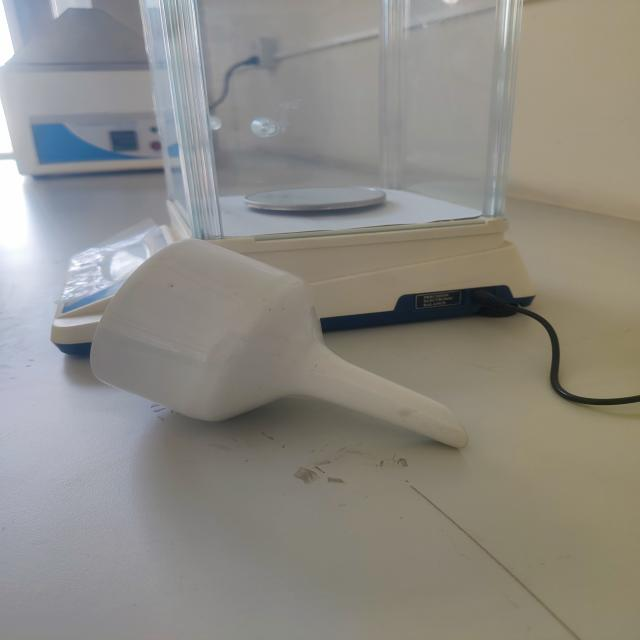Buchner_Funnel: (52, 210, 500, 486)
